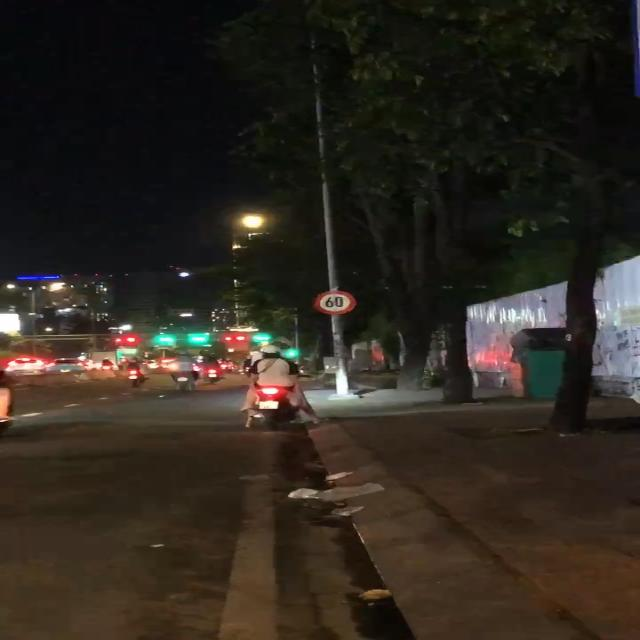Bien bao toc do toi da cho phep: (311, 288, 358, 316)
